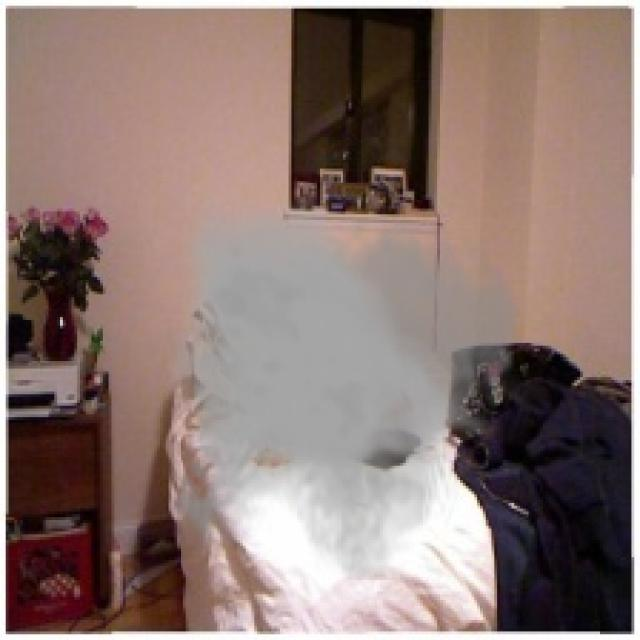smoke: (166, 189, 523, 580)
